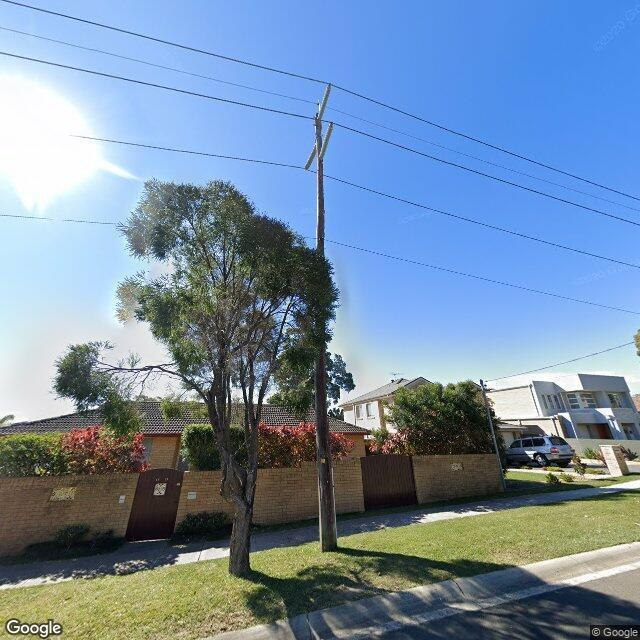HV-transmission: (305, 83, 334, 170)
steel-pole: (480, 378, 507, 490)
timber-pole: (314, 113, 338, 552)
